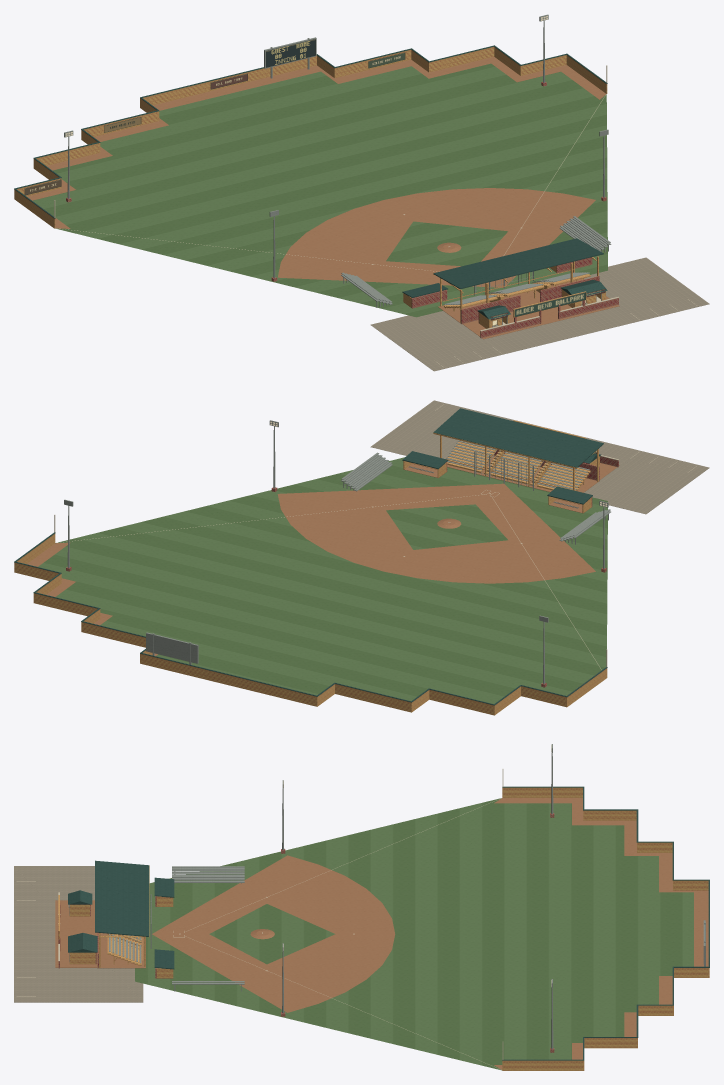
The model's file is alder-bend-2000-mid.glb.
3 views of the same model, one above another, from view 1: azimuth 30°, elevation 25°; view 2: azimuth 150°, elevation 25°; view 3: azimuth 270°, elevation 25° (orthographic).
Parts seen in each view (by area): view 1: diamond, lot, outfield_fence, grandstand, park_buildings, line_bleachers, light_towers, sign_scoreboard, sign_name; view 2: diamond, outfield_fence, grandstand, lot, park_buildings, line_bleachers, light_towers; view 3: diamond, lot, outfield_fence, grandstand, park_buildings, line_bleachers, light_towers.
Boxes of the visible parts, x1,y1,x2,y2 form: diamond: (27,57,607,317); lot: (370,257,709,371); outfield_fence: (14,37,607,228); grandstand: (433,238,603,324); park_buildings: (402,257,619,338); line_bleachers: (341,216,611,307); light_towers: (64,14,608,281); sign_scoreboard: (266,39,315,67); sign_name: (514,292,585,316); diamond: (27,451,607,703); outfield_fence: (14,514,607,715); grandstand: (433,408,603,492); lot: (370,400,709,514); park_buildings: (402,420,618,513); line_bleachers: (341,452,610,544); light_towers: (64,420,608,687); diamond: (135,798,708,1070); lot: (14,866,143,1002); outfield_fence: (502,769,709,1070); grandstand: (95,860,149,968); park_buildings: (58,877,174,978); line_bleachers: (172,866,244,991); light_towers: (281,744,554,1052).
Size of what is drawn, in the model's own units: 144 by 17.37 by 155.
11 materials, 11 textured.
